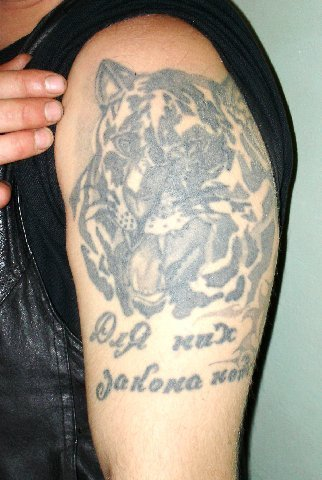tatu3_bukva: (85, 314, 256, 399)
tatu5_tigr: (69, 56, 277, 319)
